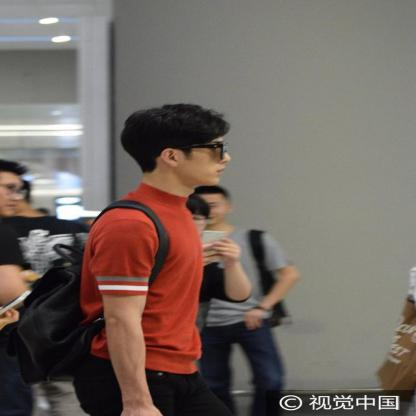Not_Wearing_Mask: (173, 138, 232, 188), (0, 179, 26, 219), (192, 200, 229, 226)
